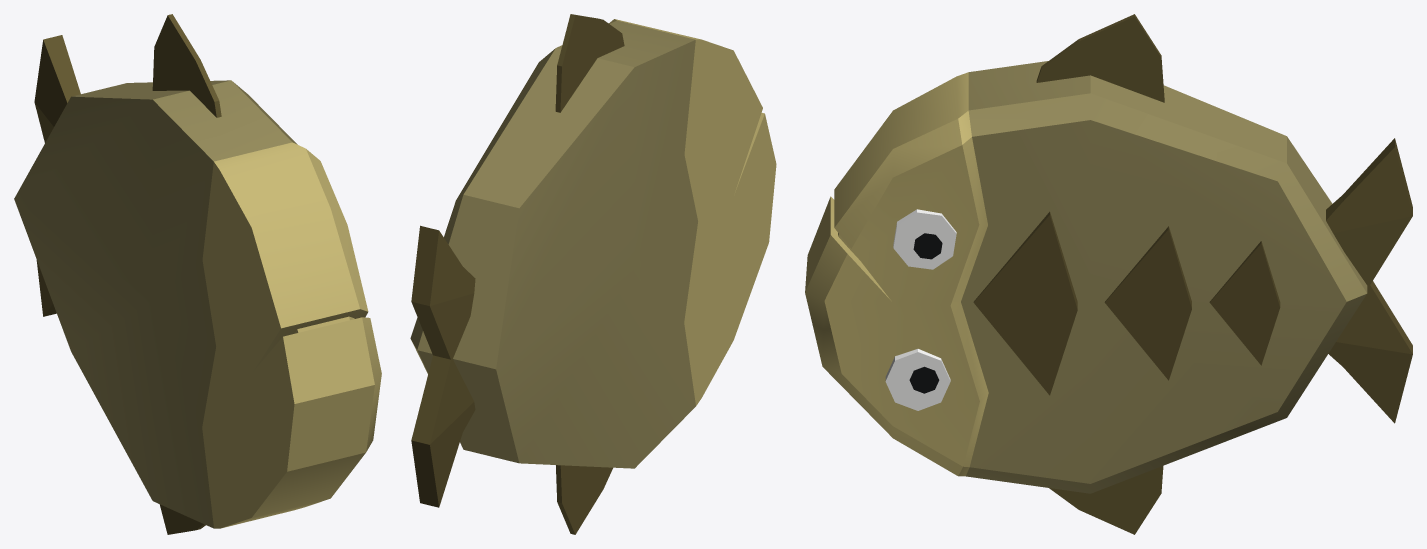
The model's file is fish3.fbx.
3 views of the same model, side by side, from view 1: azimuth 30°, elevation 25°; view 2: azimuth 150°, elevation 25°; view 3: azimuth 270°, elevation 25° (orthographic).
Visible parts, largest first — view 1: fish3; view 2: fish3; view 3: fish3.
Part boxes in pixels (<box>): fish3: <box>14,14,381,534</box>; fish3: <box>410,14,776,534</box>; fish3: <box>805,14,1412,534</box>.
Size of the model in its own units: 37.57 by 165 by 175.
1 material, 1 textured.
